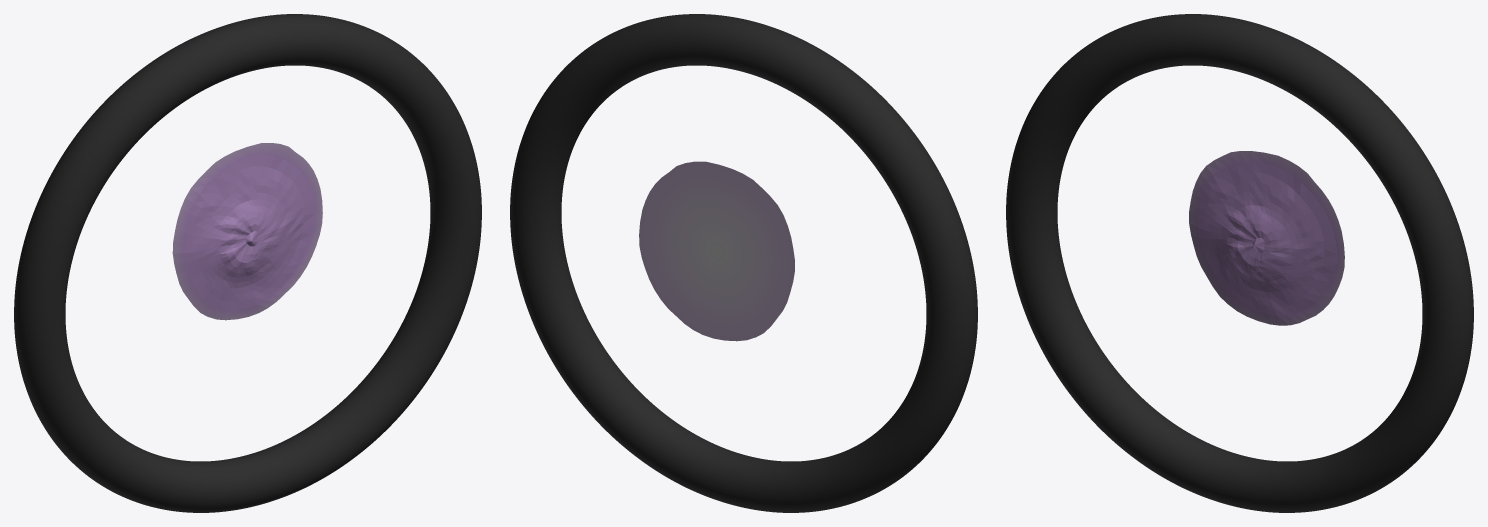
The picture shows the model from 3 angles, left to right: view 1: azimuth 30°, elevation 25°; view 2: azimuth 150°, elevation 25°; view 3: azimuth 330°, elevation 25°; orthographic projection.
Visible parts, largest first — view 1: fixed_CAD_Ring, actual014_body_inferred_base_gray; view 2: fixed_CAD_Ring, actual014_body_inferred_base_gray; view 3: fixed_CAD_Ring, actual014_body_inferred_base_gray.
Part boxes in pixels (box(x1,y1,x2,y2)): fixed_CAD_Ring: box(14, 14, 481, 512); actual014_body_inferred_base_gray: box(172, 143, 322, 320); fixed_CAD_Ring: box(510, 14, 977, 512); actual014_body_inferred_base_gray: box(639, 161, 794, 341); fixed_CAD_Ring: box(1006, 14, 1473, 512); actual014_body_inferred_base_gray: box(1189, 151, 1344, 325).
Size of the model in its own units: 0.0124 by 0.0124 by 0.00132.
